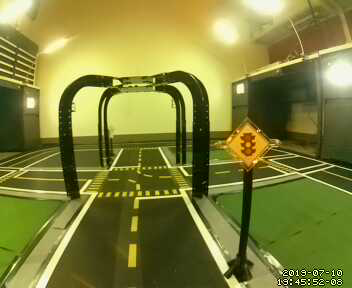Traffic light sign: (228, 119, 271, 166)
